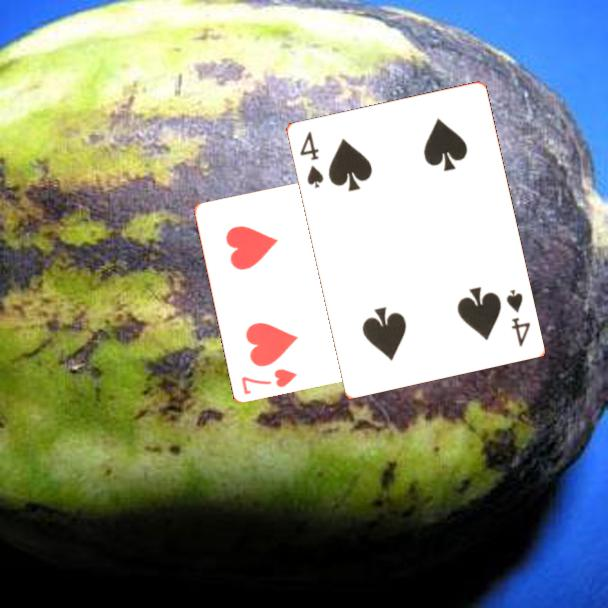h07: (238, 365, 300, 397)
s04: (502, 285, 533, 349), (296, 128, 326, 191)
